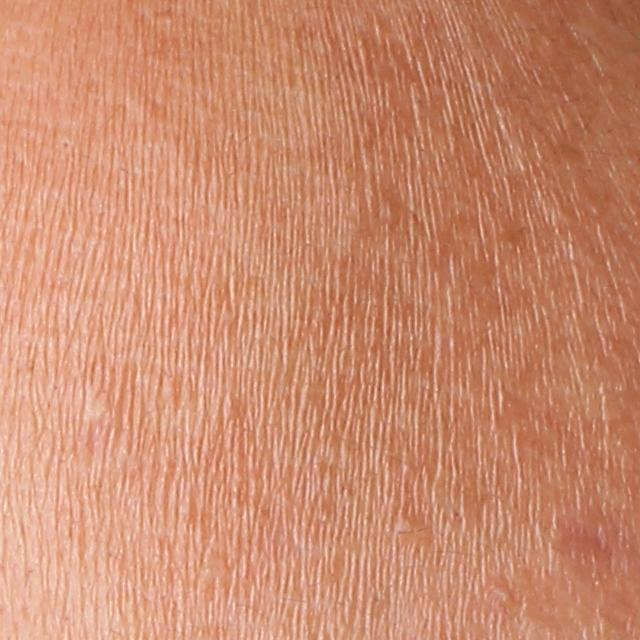comedo: (74, 387, 121, 425), (494, 581, 520, 611), (394, 513, 422, 538), (56, 137, 73, 152)
